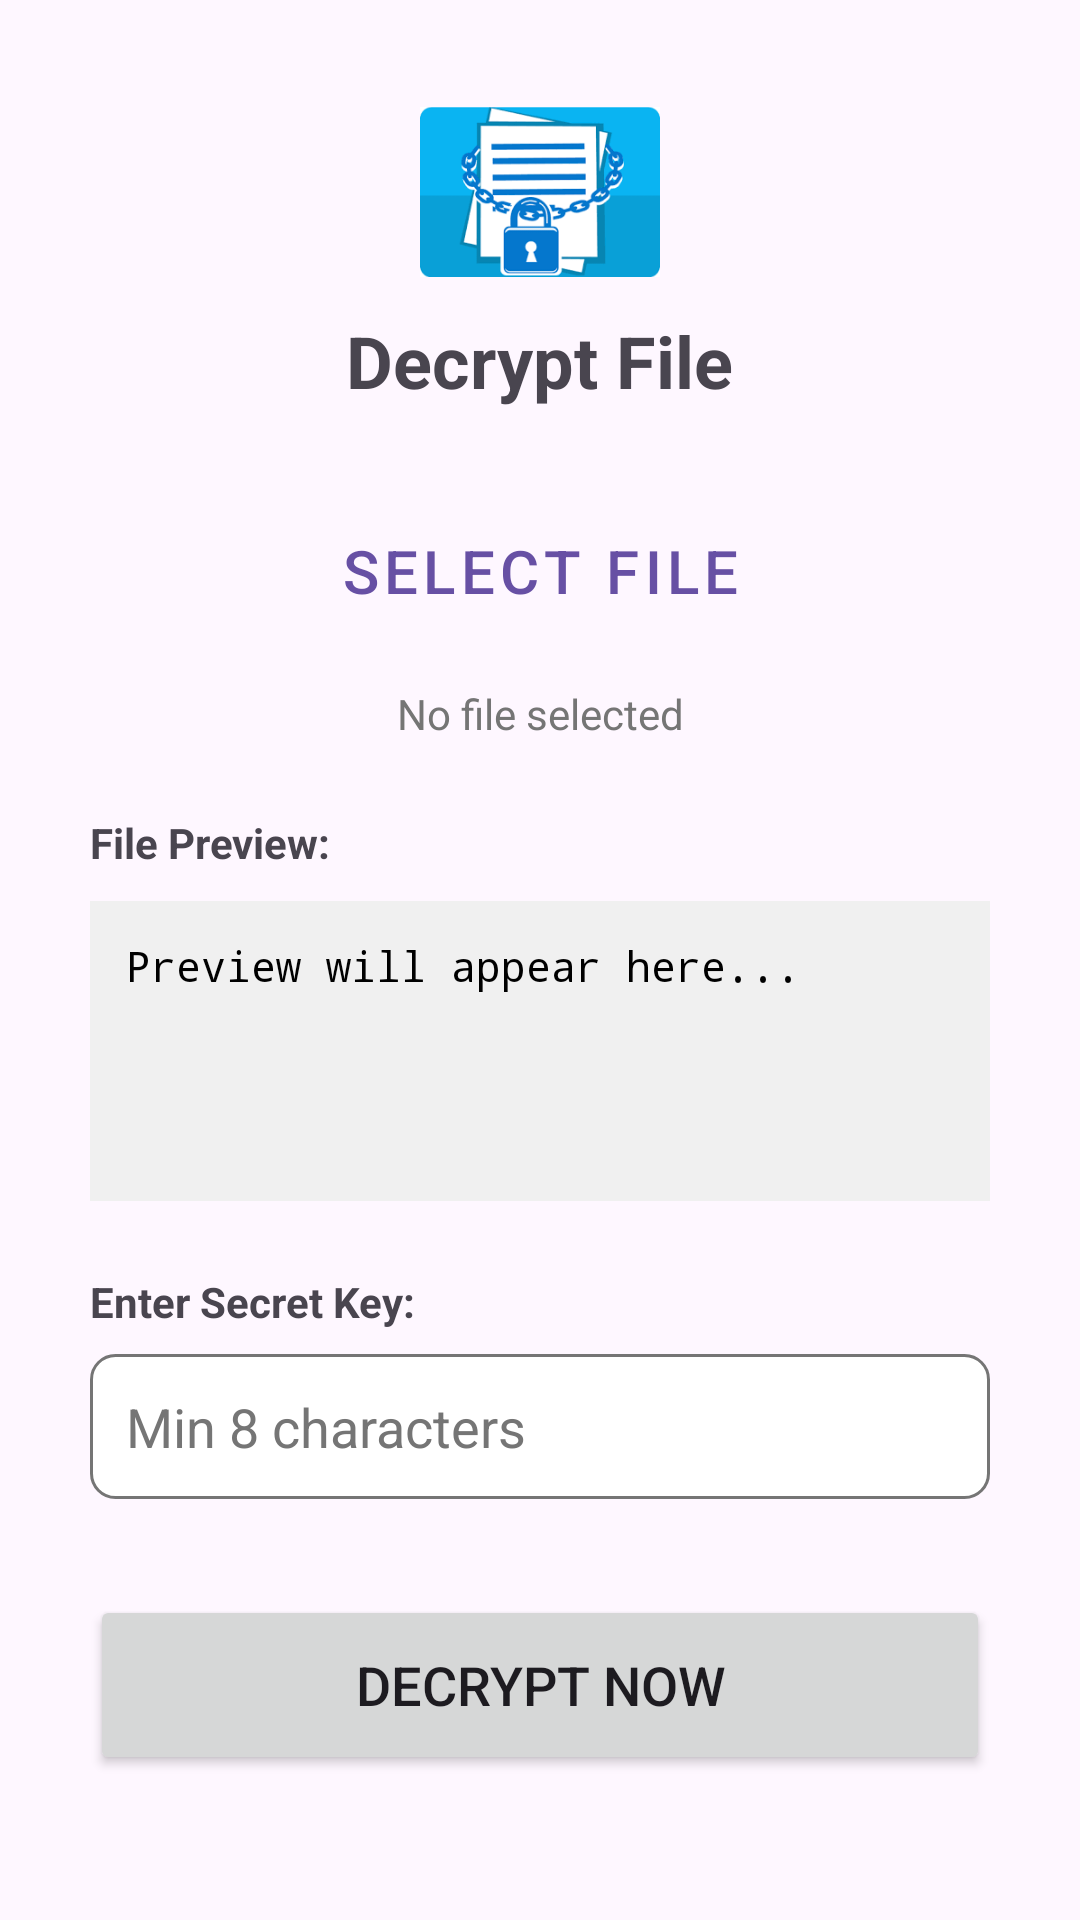

Screen size 1080 x 1920. Icon name, then its box in pixels as (x1=x1, y1=y1, x2=x2, y2=y2):
file encryption: (x1=420, y1=107, x2=660, y2=277)
